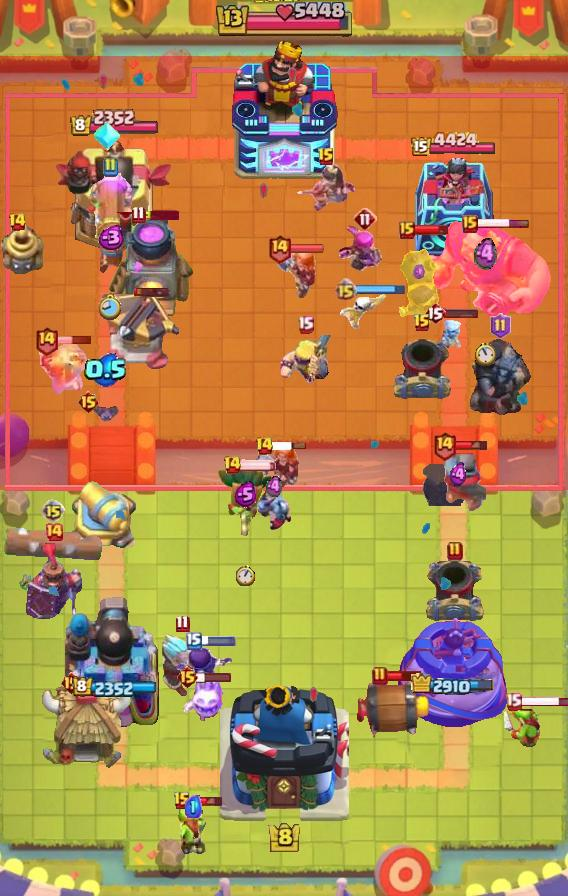archer-evolution: (336, 221, 394, 279)
bar: (519, 695, 568, 708), (476, 218, 530, 229), (354, 284, 406, 295), (386, 669, 423, 682), (239, 459, 277, 471), (134, 286, 171, 298), (196, 671, 232, 683), (443, 307, 479, 319), (413, 224, 449, 236), (189, 795, 224, 807), (454, 439, 489, 451), (289, 243, 325, 254), (199, 636, 237, 646), (271, 441, 307, 451), (143, 210, 179, 220), (57, 335, 92, 345)
bar-level: (432, 430, 457, 461), (34, 325, 59, 356), (267, 233, 292, 264), (41, 499, 65, 523), (353, 207, 377, 231), (60, 671, 83, 695), (176, 665, 199, 689), (77, 390, 100, 414), (490, 313, 511, 339), (334, 278, 357, 301), (424, 301, 446, 325), (44, 522, 64, 542), (223, 455, 242, 475), (255, 436, 274, 456), (8, 212, 27, 232), (173, 791, 191, 811), (413, 313, 431, 333), (317, 147, 335, 167), (505, 692, 522, 711), (297, 315, 314, 334), (372, 666, 388, 686), (447, 541, 463, 561), (102, 157, 118, 177), (186, 632, 202, 650), (399, 221, 415, 239), (462, 215, 478, 233), (175, 614, 190, 633), (131, 205, 146, 224)
barbarian-barrel: (353, 678, 433, 738)
barbarian-evolution: (278, 335, 332, 385)
bat: (92, 400, 120, 424)
bomb: (423, 464, 467, 506)
bomber-evolution: (395, 232, 443, 328), (173, 643, 233, 699)
cannoneer-tower: (53, 138, 175, 256), (65, 593, 163, 731)
clock: (99, 293, 122, 321), (475, 342, 496, 366), (236, 565, 255, 586)
dart-goblin: (215, 464, 275, 540)
elixir: (84, 353, 128, 387), (474, 237, 497, 272), (95, 225, 125, 250), (234, 481, 257, 508), (449, 462, 468, 487), (185, 795, 202, 818), (266, 475, 282, 499), (413, 264, 426, 280)
goblin: (502, 705, 546, 749), (178, 805, 208, 855)
ice-spirit-evolution: (181, 675, 229, 723)
ice-spirit-evolution-symbol: (92, 121, 122, 151)
ice-wizard: (156, 632, 208, 696)
king-tower: (220, 678, 349, 826), (230, 41, 338, 181)
king-tower-bar: (213, 2, 355, 40)
knight: (430, 450, 486, 514)
minion: (254, 487, 294, 531)
mortar: (424, 557, 486, 625), (391, 335, 453, 403)
princess: (295, 162, 357, 214), (35, 341, 89, 395)
queen-tower: (394, 614, 513, 731), (412, 158, 494, 256)
skeleton: (338, 292, 388, 330), (437, 317, 465, 349)
the-log: (3, 524, 103, 562)
tower-bar: (69, 109, 160, 138), (410, 131, 497, 159), (411, 673, 496, 698), (72, 677, 157, 699)
valkyrie: (248, 442, 302, 492), (272, 248, 318, 302)
zappy: (0, 222, 46, 274)
